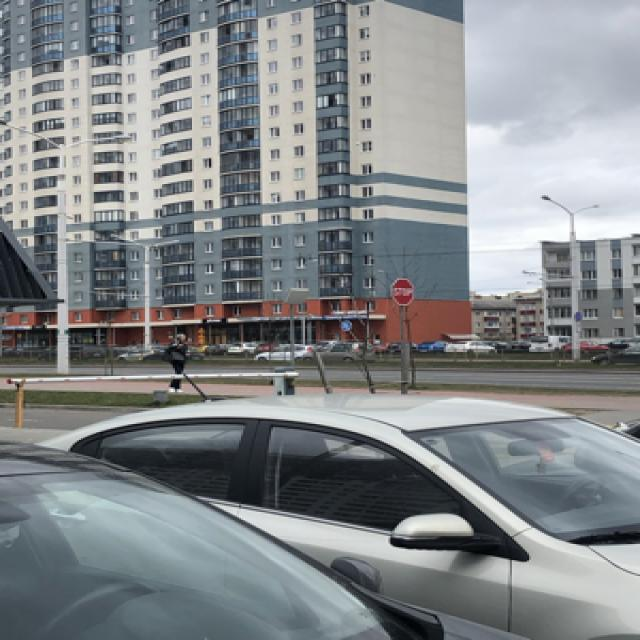stop: (388, 277, 412, 304)
